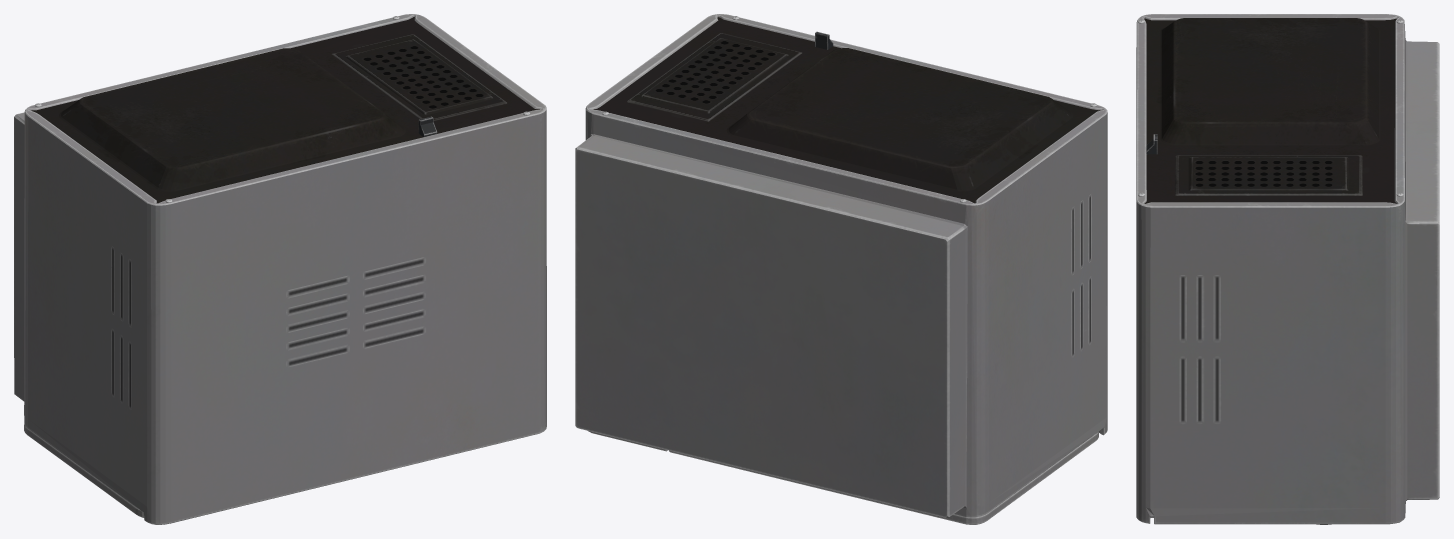
The model's file is Microwave.obj.
The picture shows the model from 3 angles, left to right: view 1: azimuth 30°, elevation 25°; view 2: azimuth 150°, elevation 25°; view 3: azimuth 270°, elevation 25°; orthographic projection.
Visible parts, largest first — view 1: Object.1; view 2: Object.1; view 3: Object.1.
Boxes of the visible parts, bbox=[...] form: Object.1: bbox=[14, 14, 546, 524]; Object.1: bbox=[575, 14, 1107, 524]; Object.1: bbox=[1136, 14, 1439, 524].
Size of the model in its own units: 95.96 by 80.88 by 63.63.
Materials: 1 (1 with a texture image).
